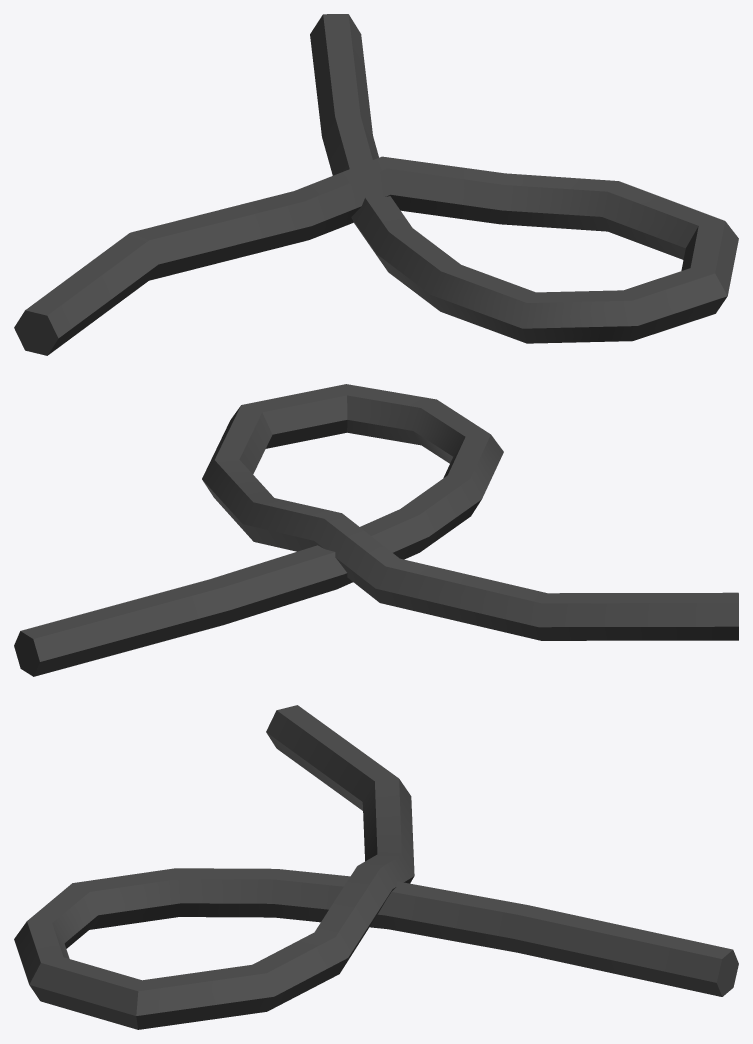
File: rope_5.FBX
The picture shows the model from 3 angles, top to bottom: view 1: azimuth 30°, elevation 25°; view 2: azimuth 150°, elevation 25°; view 3: azimuth 270°, elevation 25°; orthographic projection. The views are drawn at different scales.
Visible parts, largest first — view 1: rope_5; view 2: rope_5; view 3: rope_5.
Boxes of the visible parts, bbox=[...] form: rope_5: bbox=[14, 14, 738, 355]; rope_5: bbox=[14, 384, 738, 676]; rope_5: bbox=[14, 705, 738, 1029].
Size of the model in its own units: 65.15 by 6.36 by 67.69.
